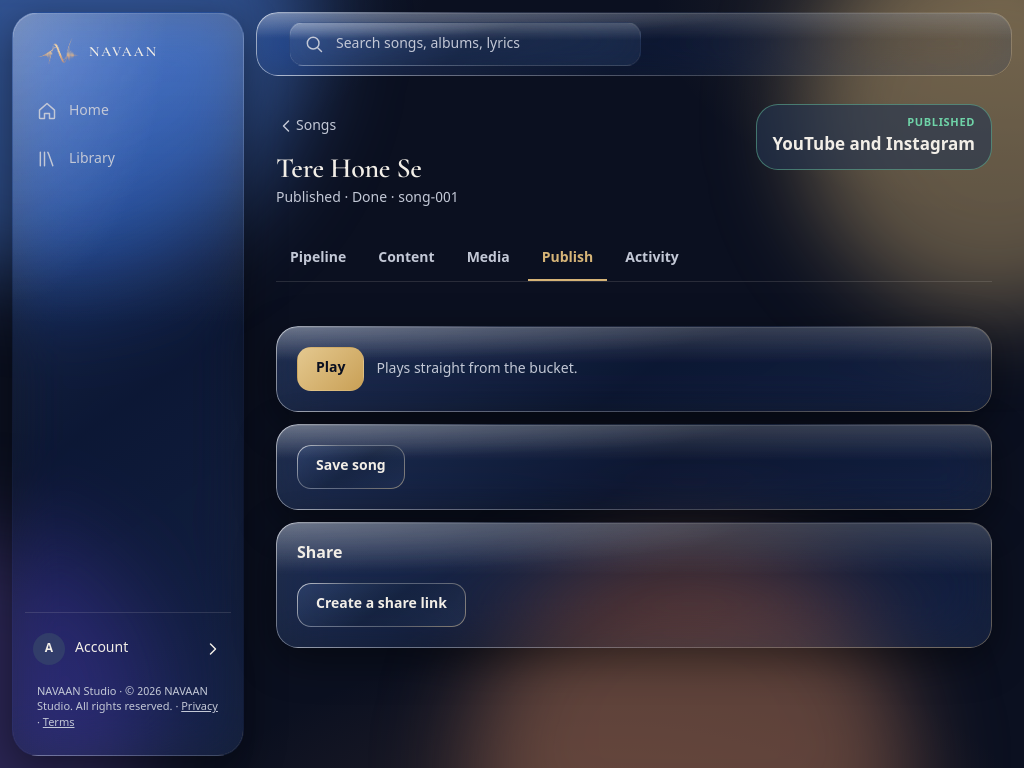
Test case: share link on a published song › shows why a link cannot be made
The image size is (1024, 768).
Click the button "Create a share link". click: (381, 605)
box: [297, 583, 466, 627]
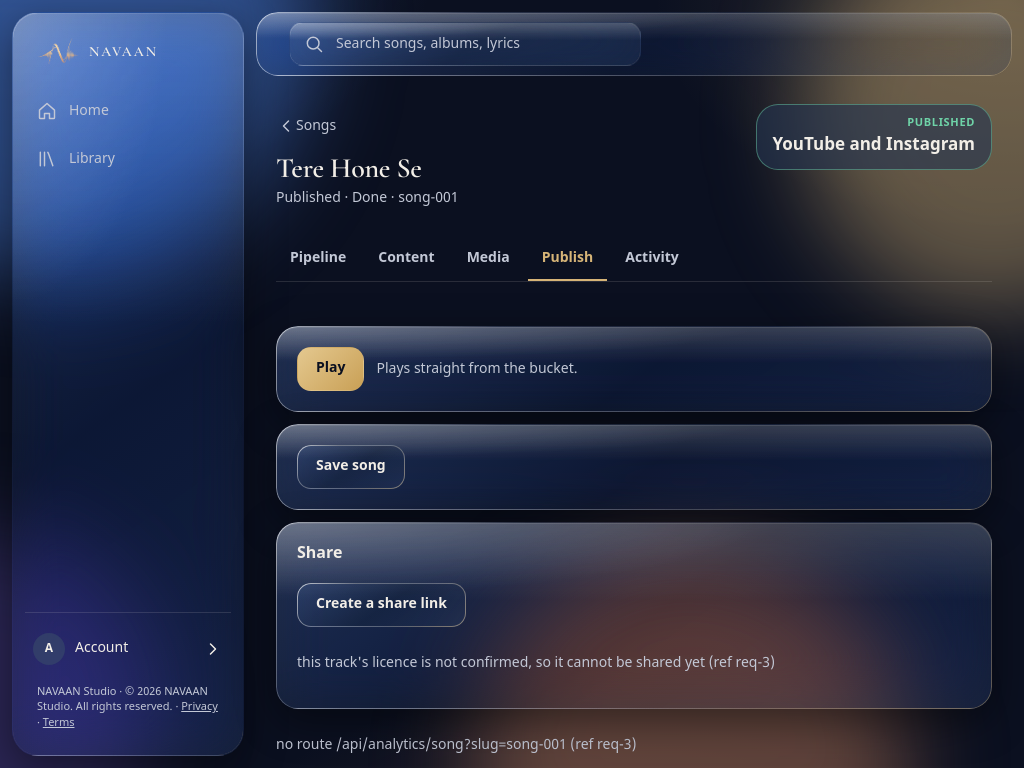
Result: the text "this track's licence is not confirmed, so it cannot be shared yet (ref req-3)" is shown at [297, 654, 775, 673]
